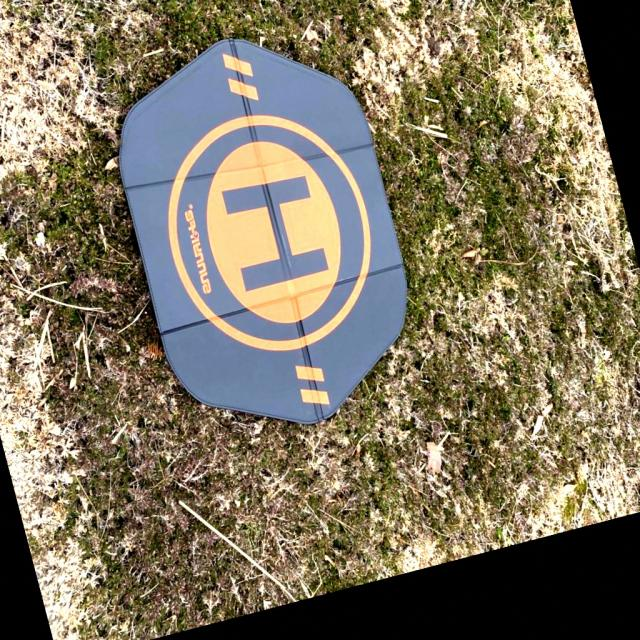helipad: (162, 110, 376, 354)
